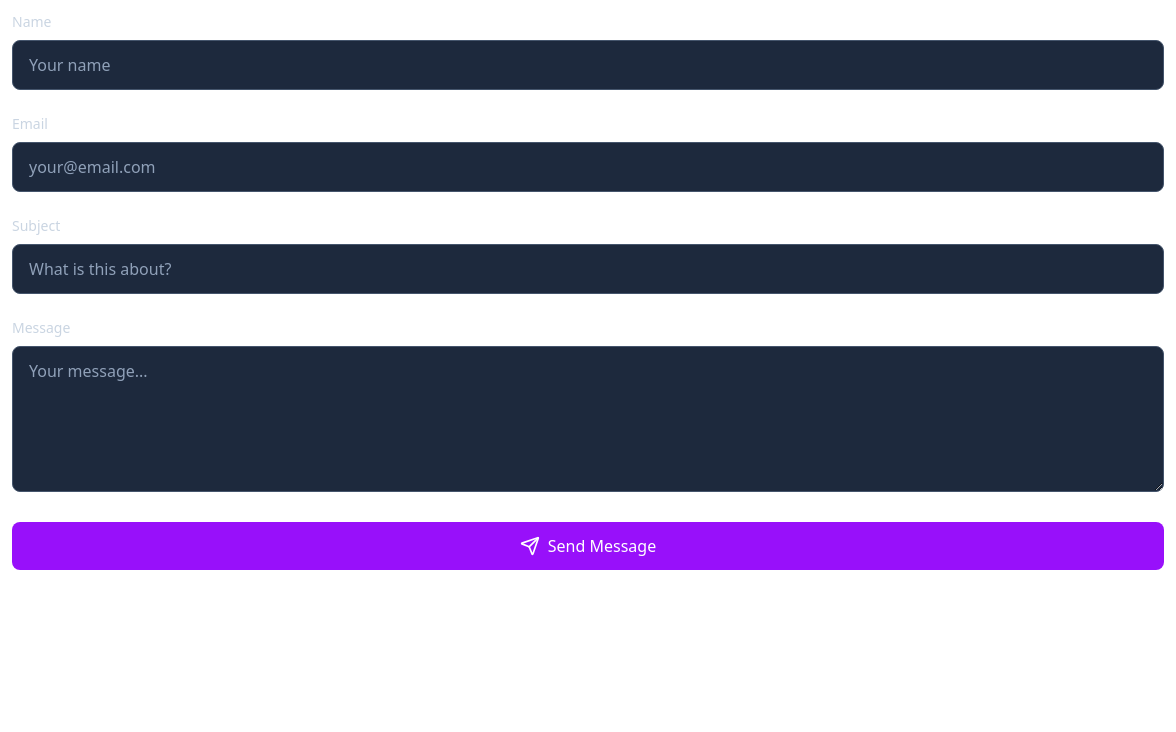
Test case: ContactForm › submit handler › shows error message on failed submit
Note: Fill form
In the field named "name": [588, 65] box [12,40,1164,90], type "Test User"
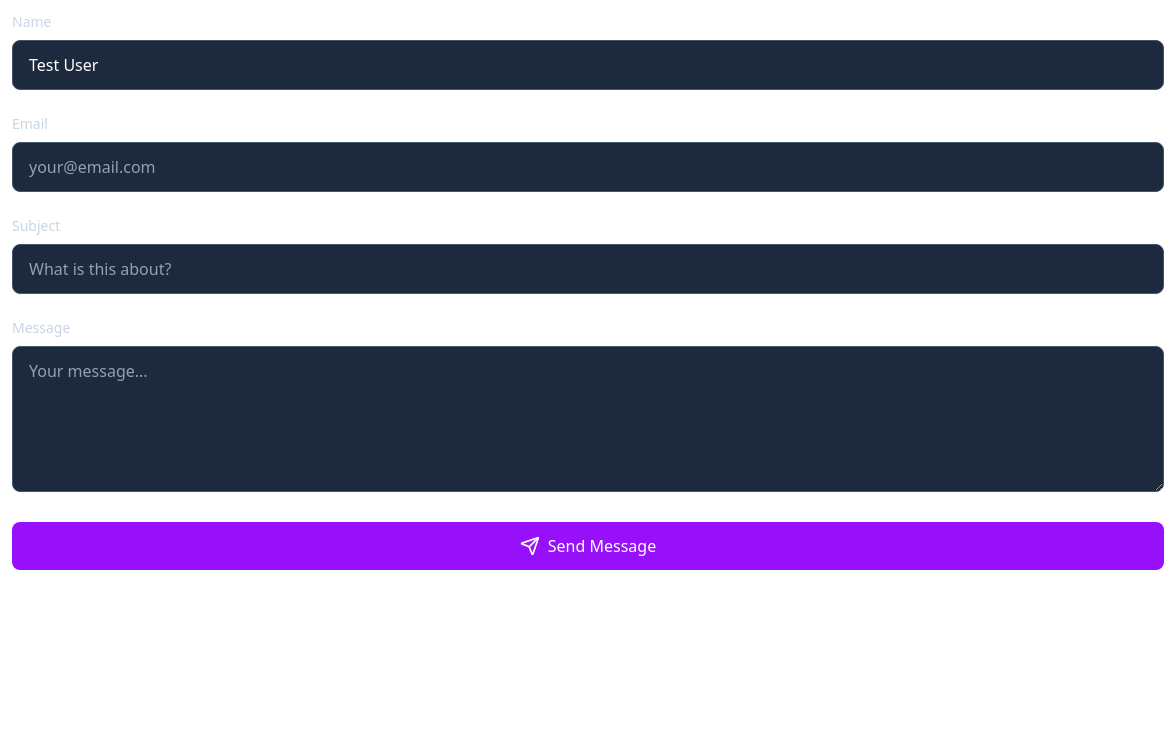
In the field labelled "Email": [588, 167] box [12,142,1164,192], type "test@example.com"
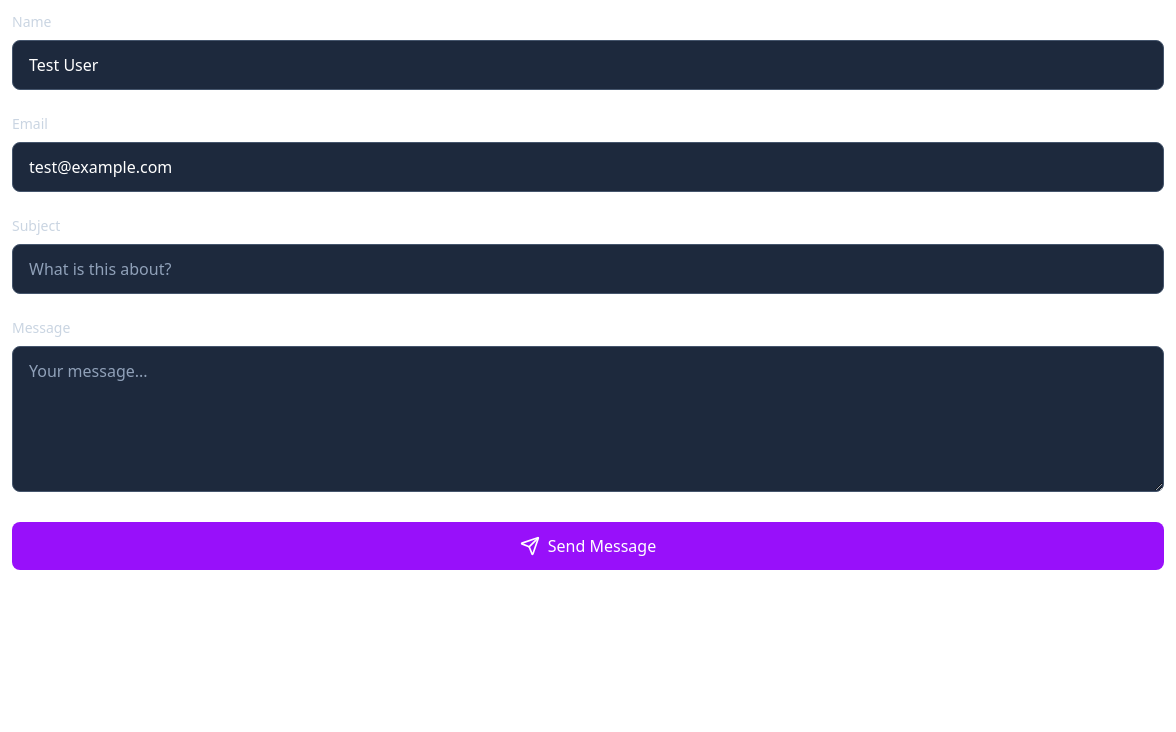
In the field named "subject": [588, 269] box [12,244,1164,294], type "Test Subject"
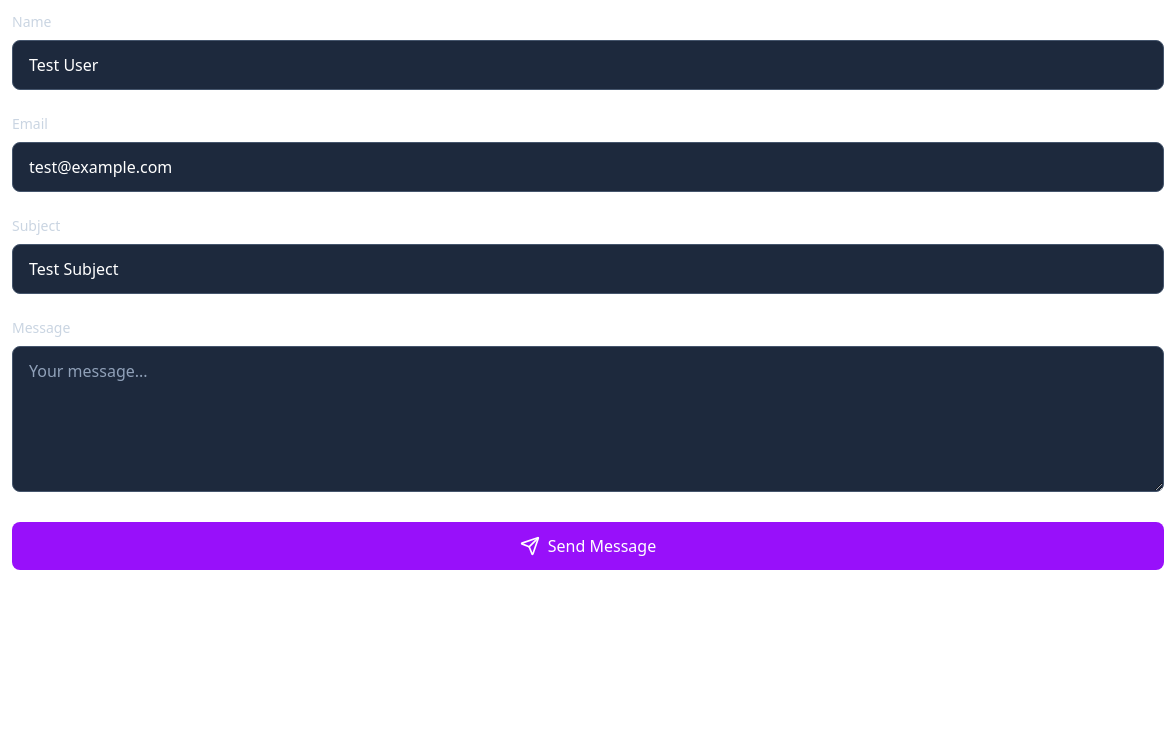
In the text box labelled "Message": [588, 419] box [12,346,1164,492], type "Test message content"
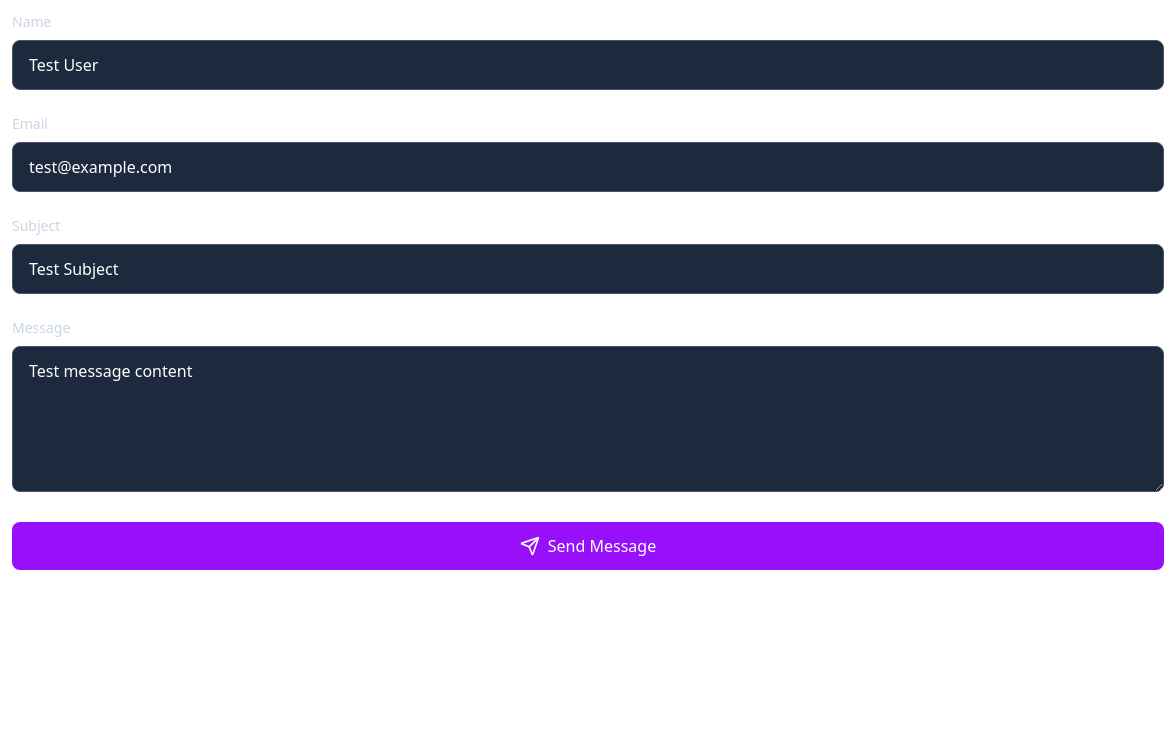
Submit the form
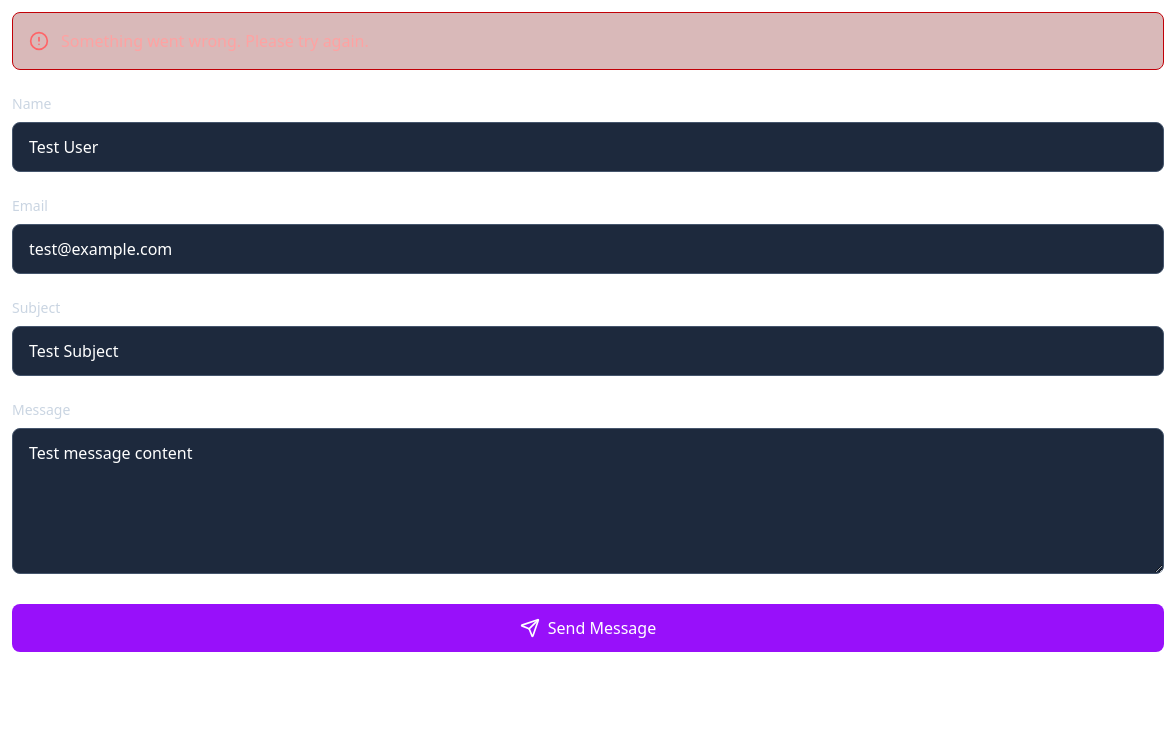
Expected: the text "Something went wrong" is shown, [61,30,369,52]
